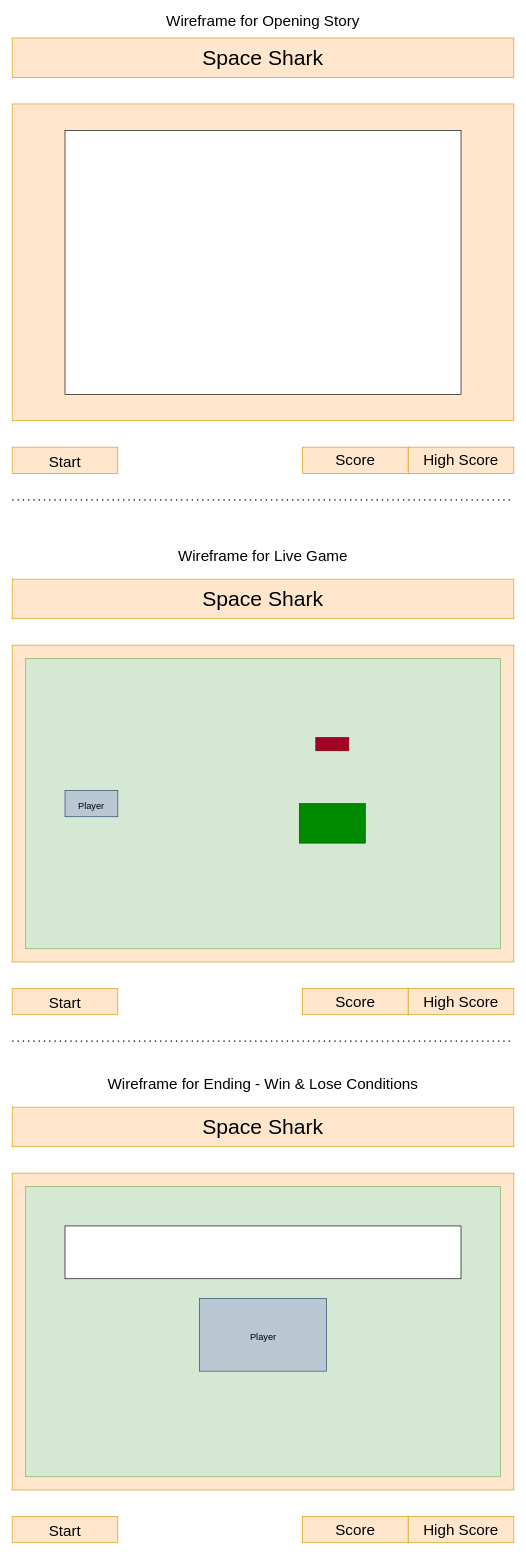
This 526x1554 diagram has some shape labels left out. Here are the shapes that lost their labels. From the top down, the centre of each, then its label:
point (262, 262): Opening Story Text
point (332, 744): Object Type 1
point (332, 823): Object Type 2
point (262, 1252): Text
